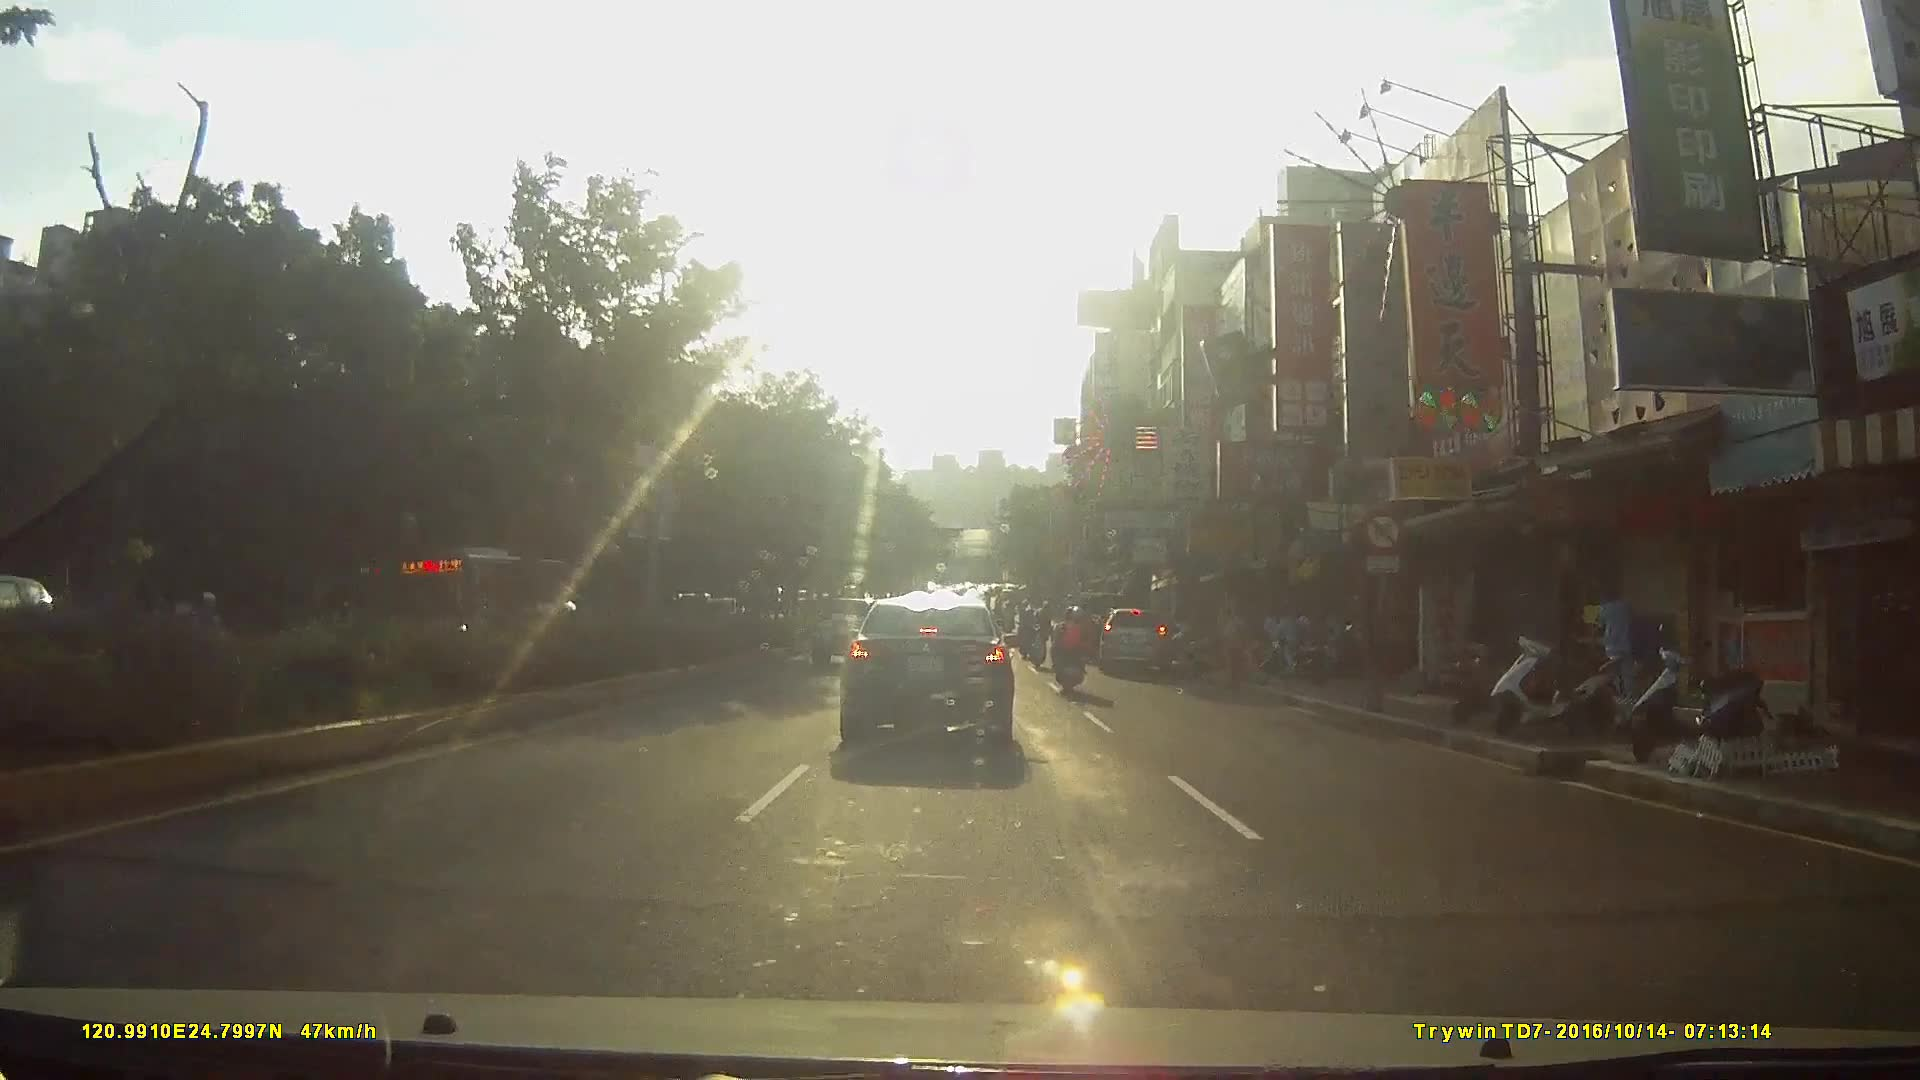pedestrian: (1585, 583, 1640, 704)
rider: (1055, 608, 1099, 705), (1022, 604, 1053, 676)
vehicle: (837, 589, 1033, 759), (1097, 605, 1183, 689)
